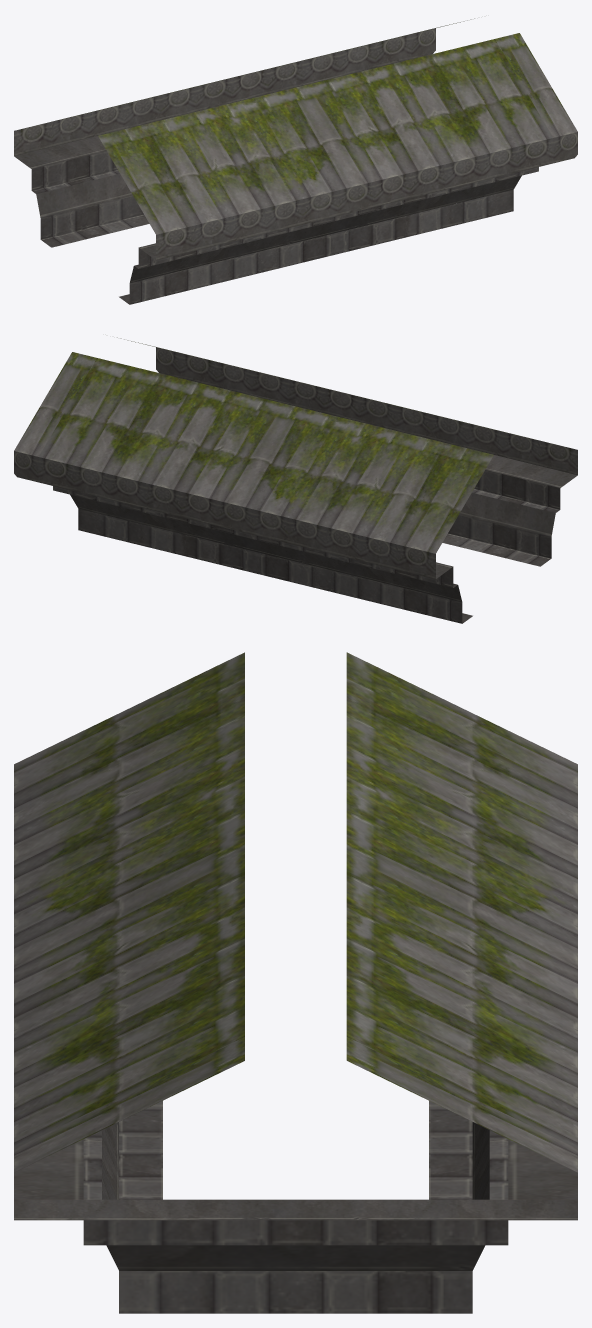
Rendered from b_zx_qiangbi01_03_01.FBX.
The picture shows the model from 3 angles, top to bottom: view 1: azimuth 30°, elevation 25°; view 2: azimuth 150°, elevation 25°; view 3: azimuth 270°, elevation 25°; orthographic projection. The views are drawn at different scales.
Visible parts, largest first — view 1: b_zx_qiangbi01_03_01; view 2: b_zx_qiangbi01_03_01; view 3: b_zx_qiangbi01_03_01.
Part boxes in pixels (box(x1,y1,x2,y2)): b_zx_qiangbi01_03_01: box(14, 18, 577, 304); b_zx_qiangbi01_03_01: box(14, 337, 577, 623); b_zx_qiangbi01_03_01: box(14, 652, 577, 1313).
Bounding box in the file's own units: 4.52 × 1.49 × 2.64.
